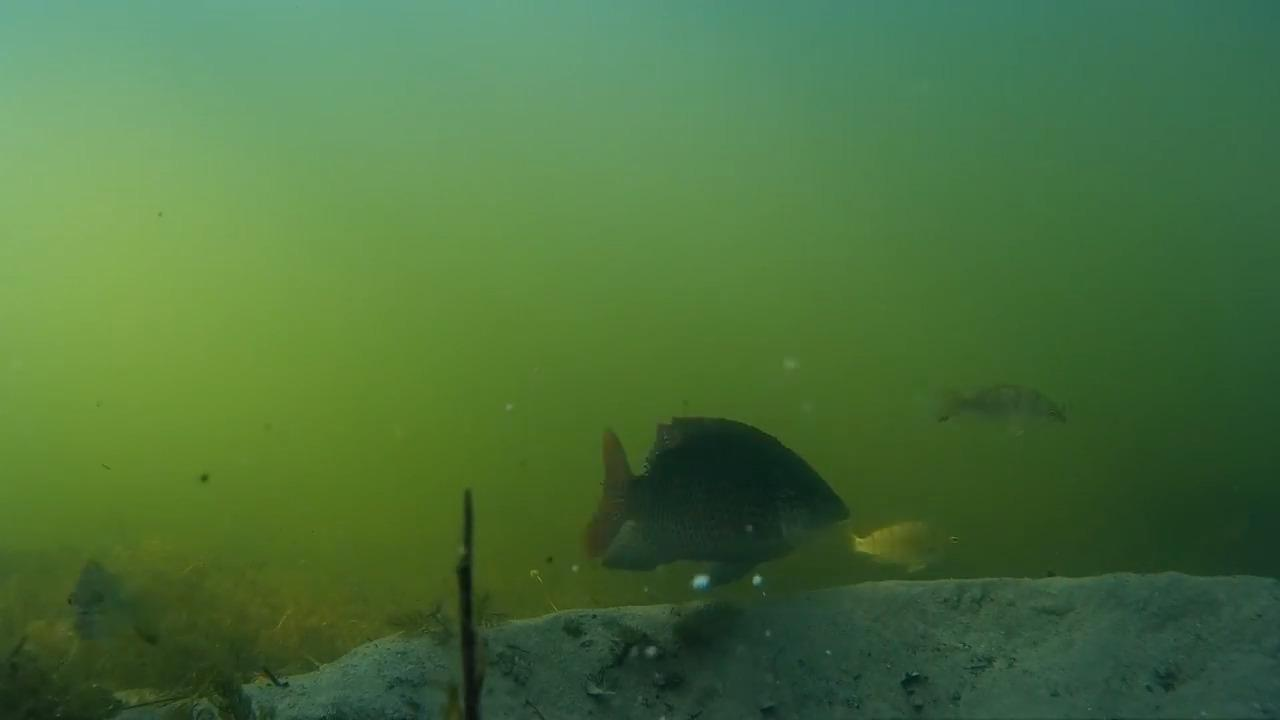Tilapia: (581, 404, 850, 590), (842, 496, 957, 596), (926, 378, 1073, 448), (53, 556, 174, 638)
